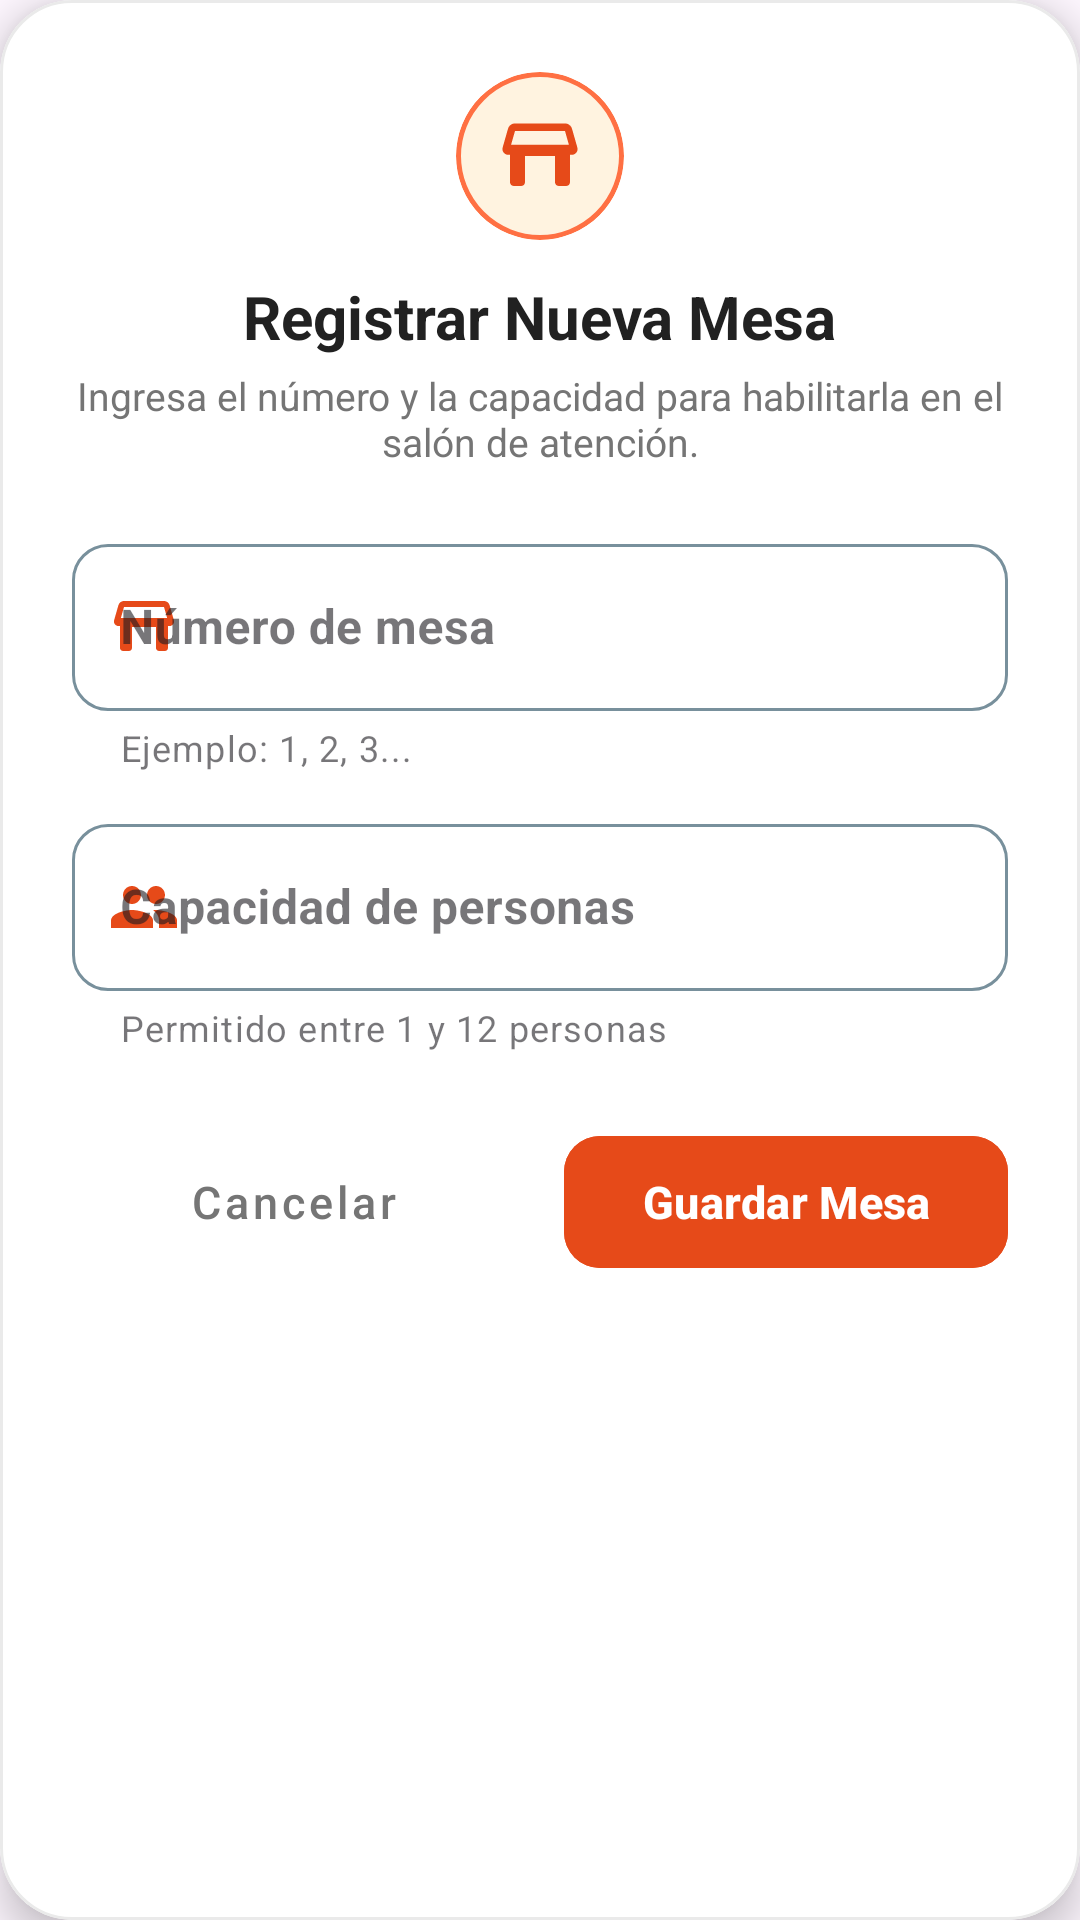

Where to tap for icons on this 1080×1920 app screen, as (x=x, y=y):
mesas: (x=540, y=154)
